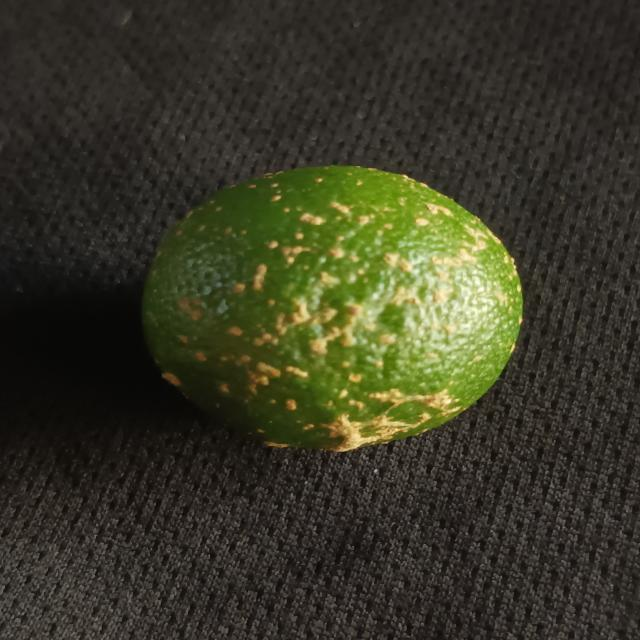scab: (134, 159, 528, 454)
